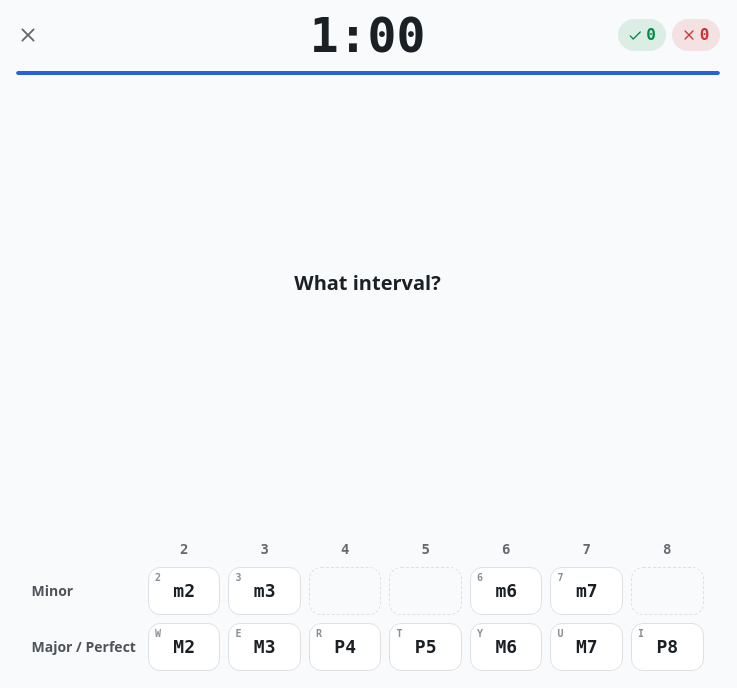
Intervals RunPhase › names the interval and plays it on a right answer
Click the button named "Minor 6th": x=506, y=591 left=470, top=567, right=542, bottom=615
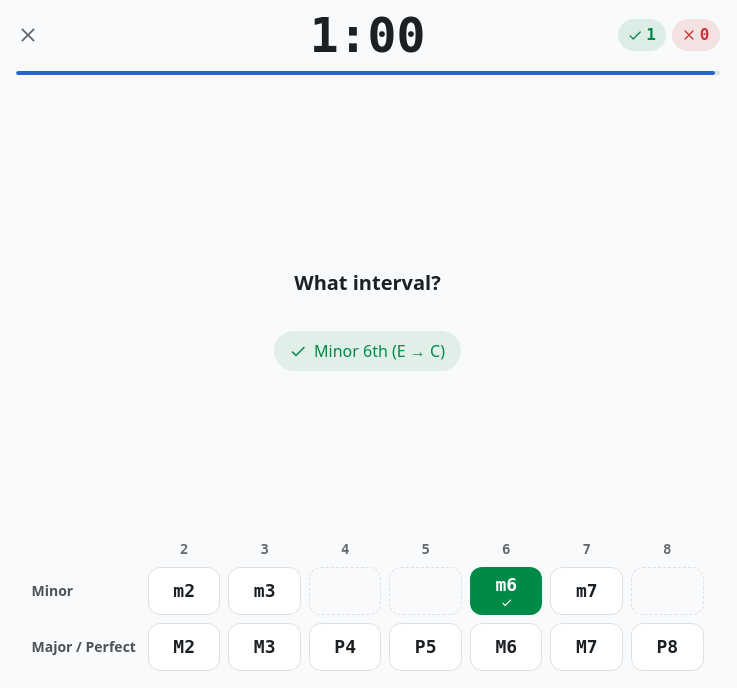
Expected: the message shows "Minor 6th", left=314, top=340, right=445, bottom=362
